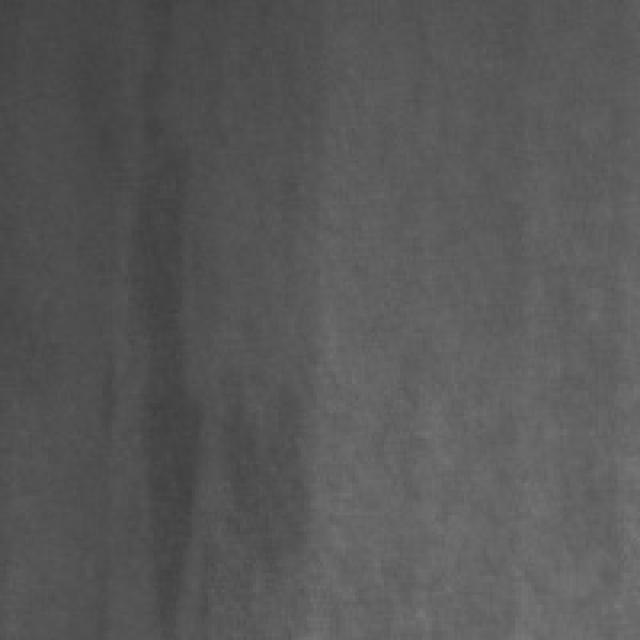inclusion: (90, 48, 211, 634)
